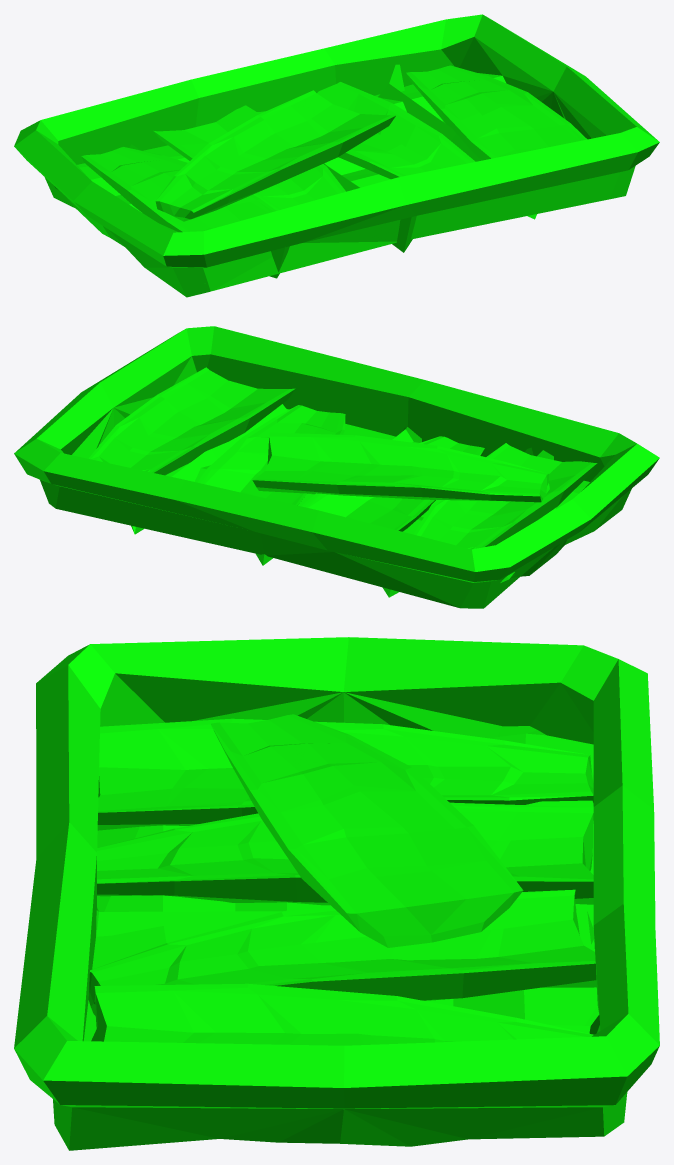
Rendered from SM_Tray_Fish_Fillet_Fantasy.fbx.
The picture shows the model from 3 angles, top to bottom: view 1: azimuth 30°, elevation 25°; view 2: azimuth 150°, elevation 25°; view 3: azimuth 270°, elevation 25°; orthographic projection. The views are drawn at different scales.
Parts seen in each view (by area): view 1: tray-fish-fillet-fantasy; view 2: tray-fish-fillet-fantasy; view 3: tray-fish-fillet-fantasy.
Part boxes in pixels (x1,y1,x2,y2): tray-fish-fillet-fantasy: (14,14,659,297); tray-fish-fillet-fantasy: (14,326,659,608); tray-fish-fillet-fantasy: (14,637,659,1150).
Bounding box in the file's own units: 0.8553 × 0.1263 × 0.5282.
